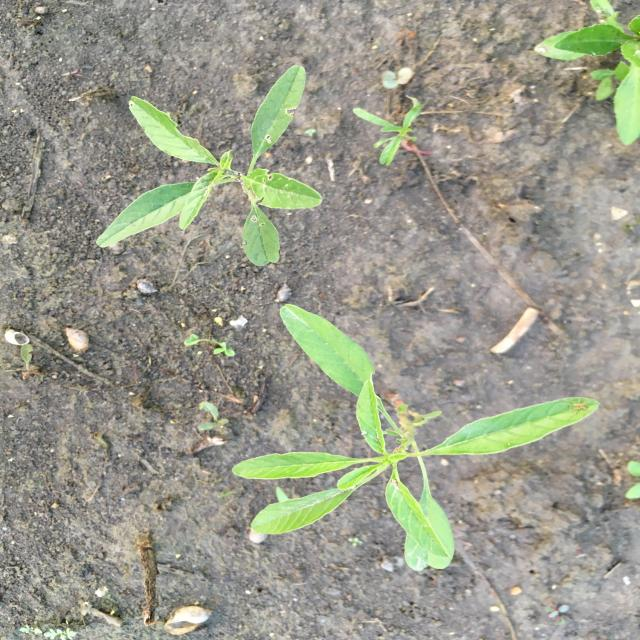Eclipta: (524, 1, 638, 148)
Waterhemp: (231, 302, 604, 572), (94, 64, 325, 268)
